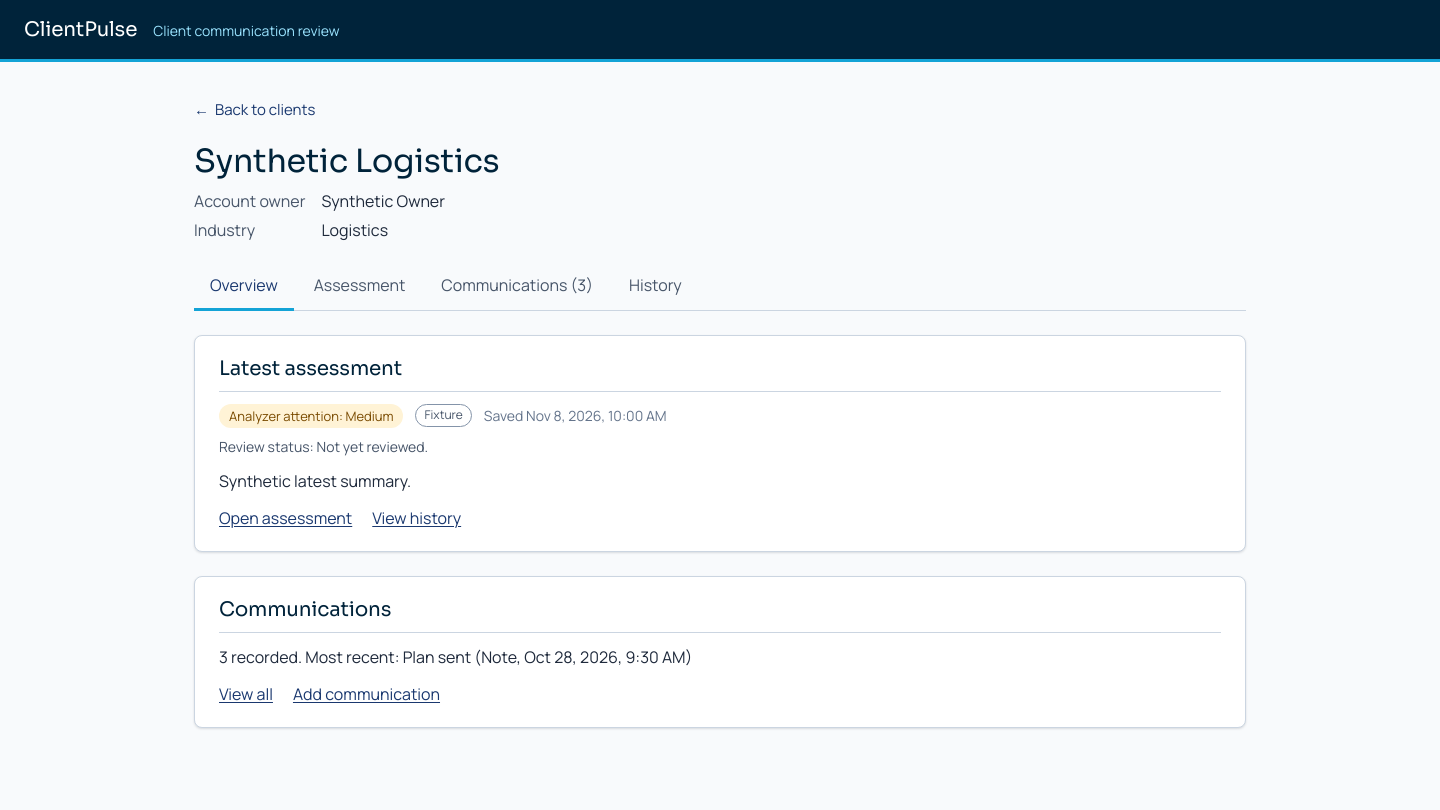
Scenario: client view › switches tabs through the tab bar
Expected: the text "Synthetic latest summary." is shown, [219,470,411,492]
Click the link "Communications (3)" at (517, 285), box [441,274,593,296]
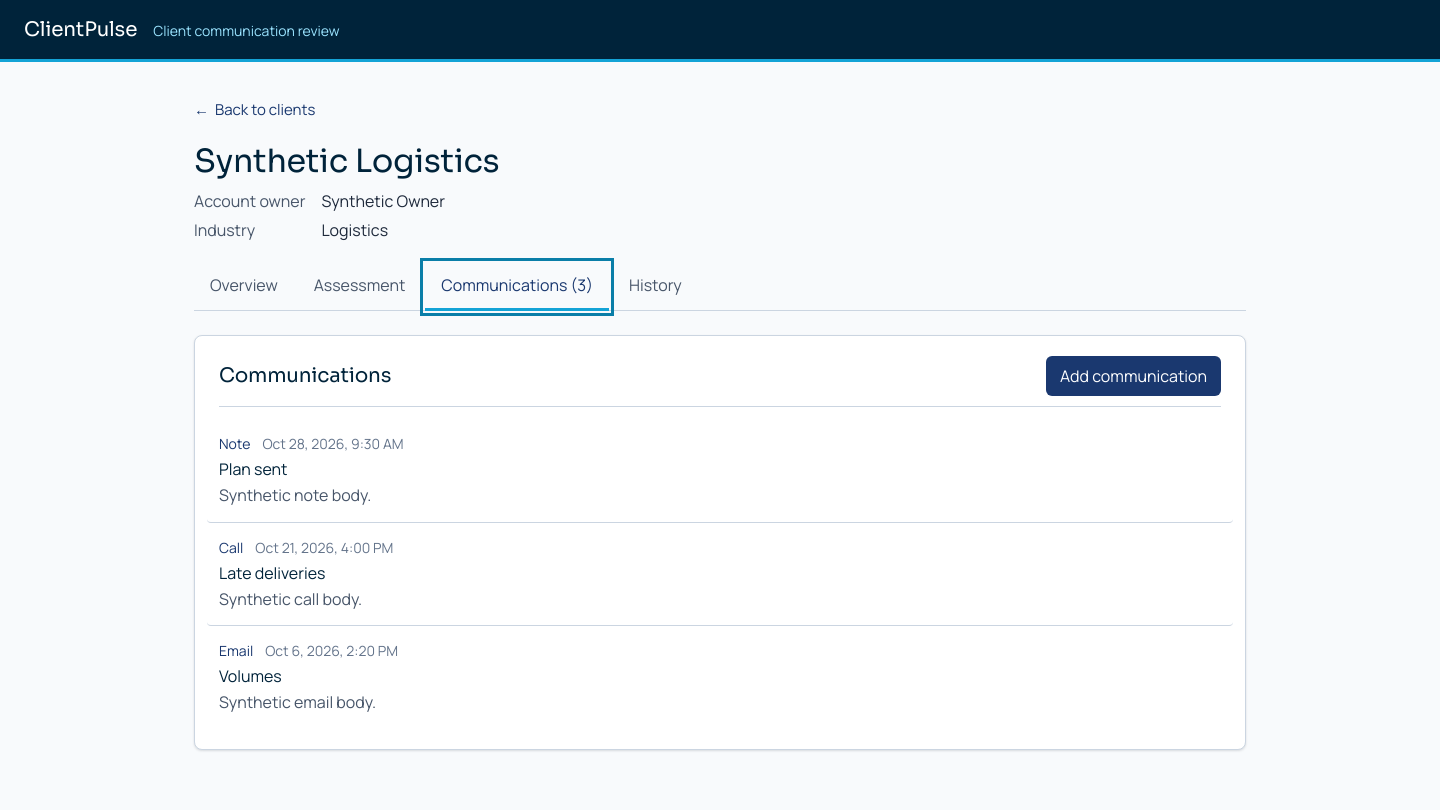
Expected: the heading "Communications" is shown, [219,363,391,388]
Result: the heading "Late deliveries" is shown at [219,562,325,584]
Click the link "History" at (655, 285), box [629,274,682,296]
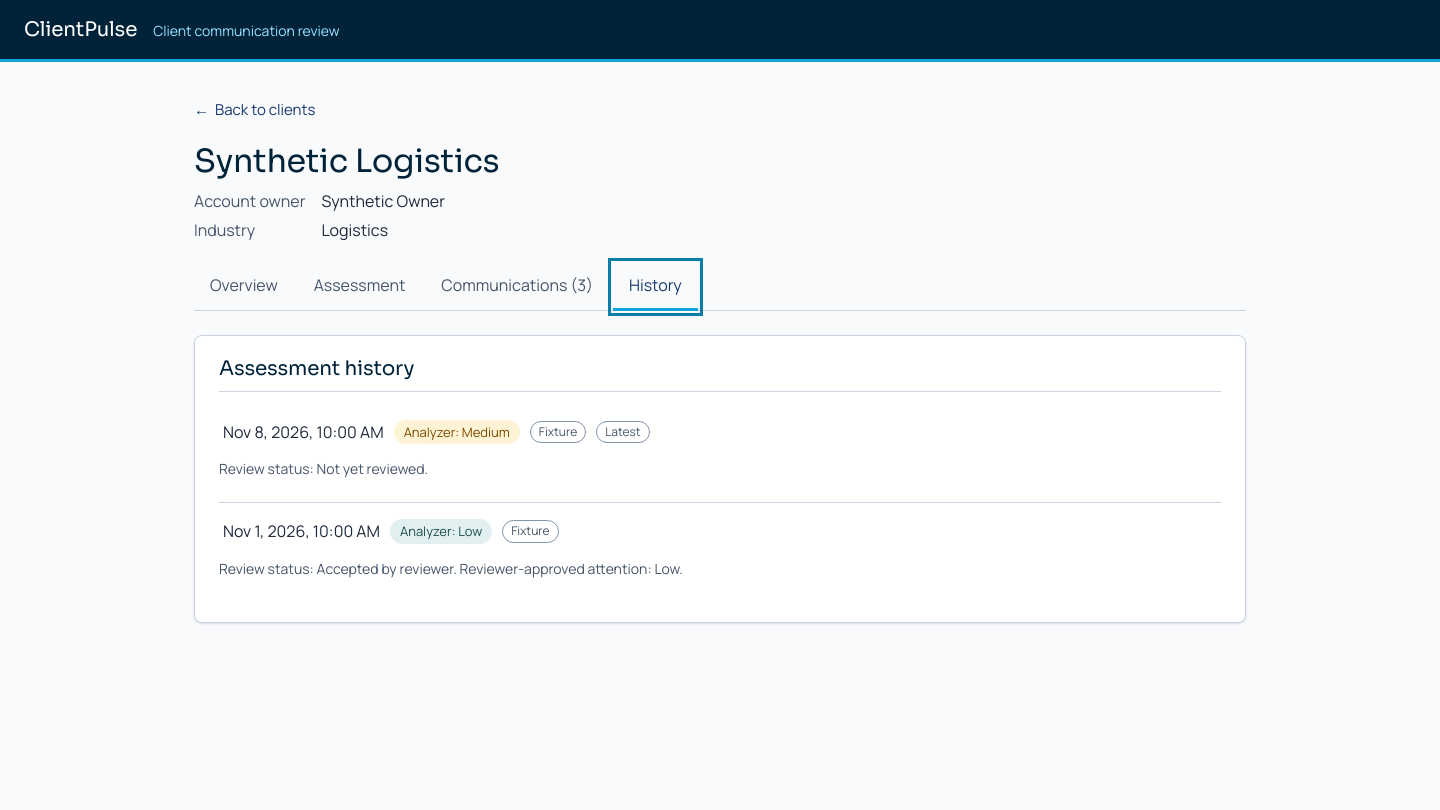
Result: the heading "Assessment history" is shown at [219,356,1221,392]
